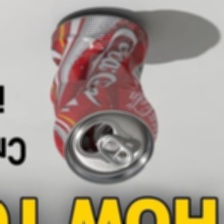can: (39, 5, 162, 187)
